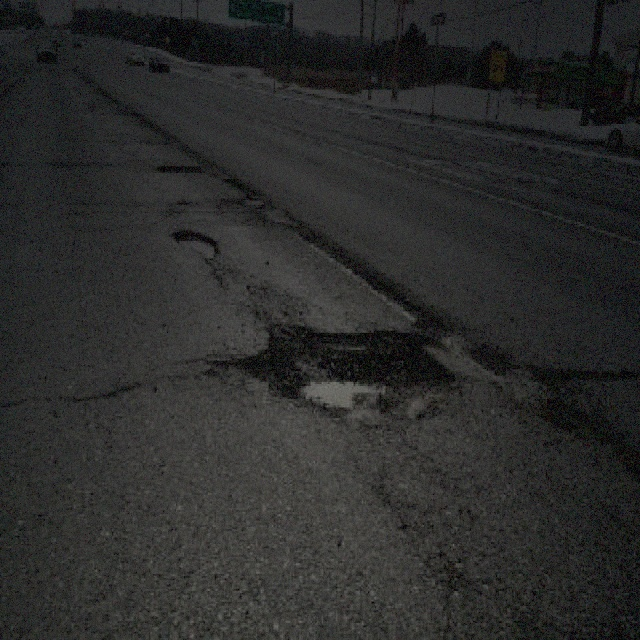pothole: (240, 320, 459, 412), (167, 224, 220, 262), (154, 162, 203, 173)
